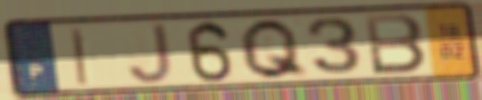3: (303, 16, 365, 77)
6: (183, 18, 235, 84)
B: (361, 12, 429, 77)
I: (67, 26, 90, 88)
J: (125, 21, 175, 86)
Q: (237, 16, 312, 81)
